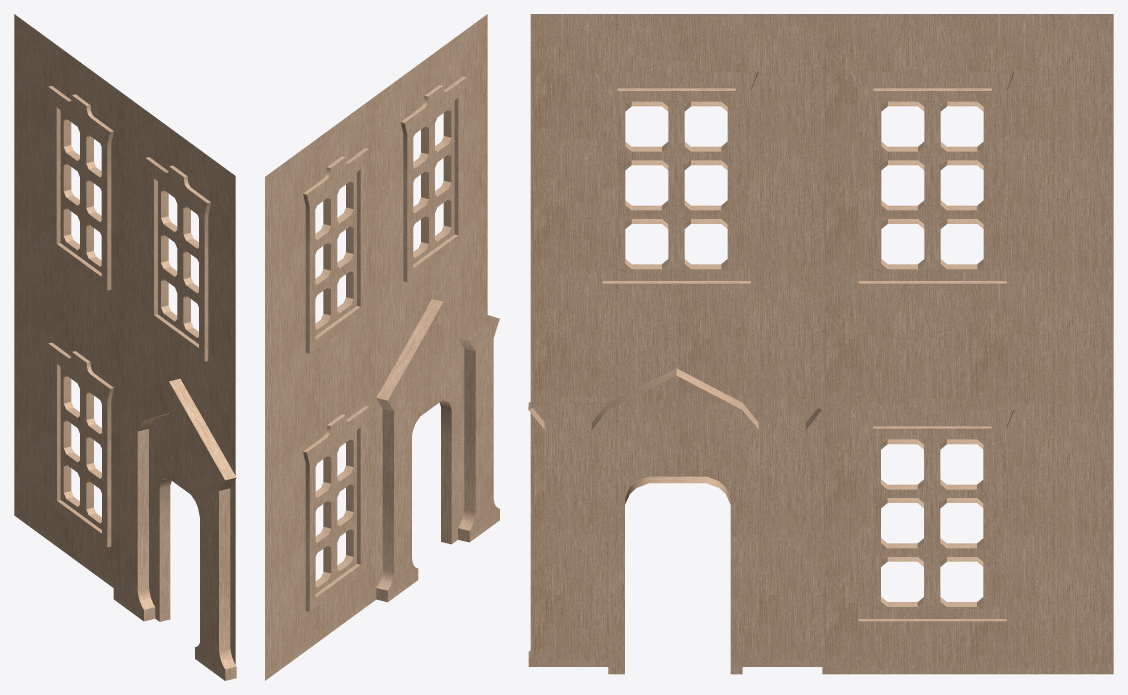
File: hous_front_left.FBX
The picture shows the model from 3 angles, left to right: view 1: azimuth 30°, elevation 25°; view 2: azimuth 150°, elevation 25°; view 3: azimuth 270°, elevation 25°; orthographic projection. The views are drawn at different scales.
Visible parts, largest first — view 1: front1; view 2: front1; view 3: front1.
Part boxes in pixels (bbox=[...]): front1: bbox=[14, 14, 236, 680]; front1: bbox=[265, 14, 499, 680]; front1: bbox=[528, 14, 1113, 674].
Size of the model in its own units: 2.3 by 50 by 40.16.
